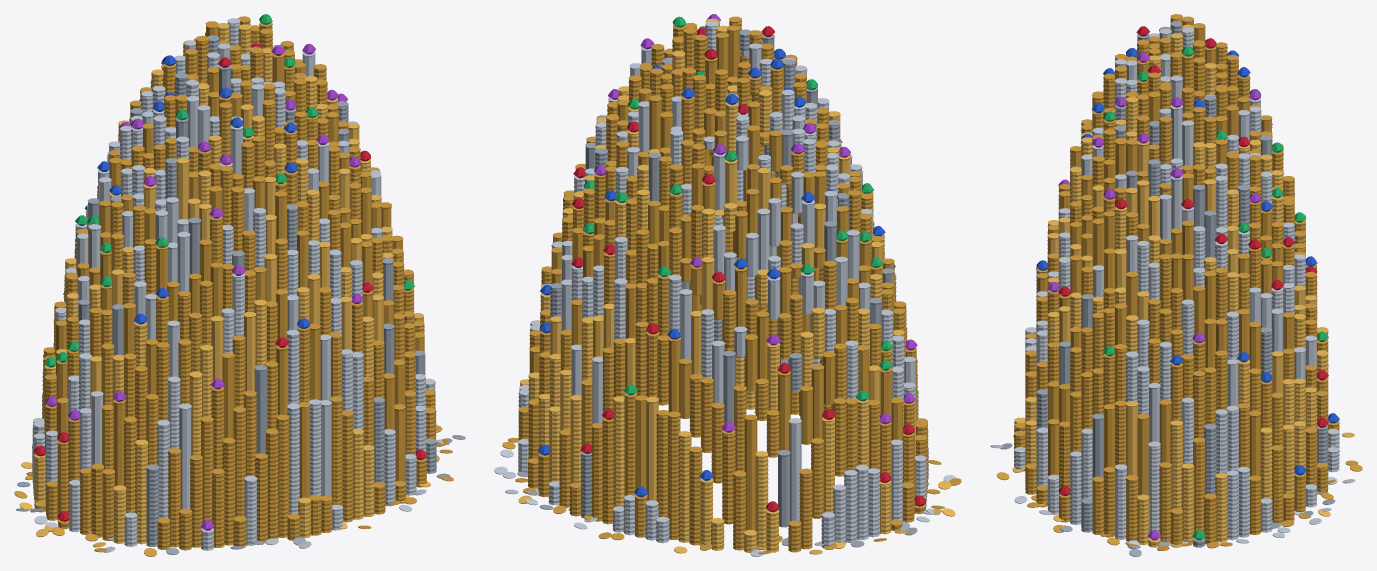
The model's file is PileTall_Large.fbx.
The picture shows the model from 3 angles, left to right: view 1: azimuth 30°, elevation 25°; view 2: azimuth 150°, elevation 25°; view 3: azimuth 270°, elevation 25°; orthographic projection. The views are drawn at different scales.
Visible parts, largest first — view 1: PileTall_Large; view 2: PileTall_Large; view 3: PileTall_Large.
Part boxes in pixels (left/top/right/bottom): PileTall_Large: left=14, top=14, right=465, bottom=556; PileTall_Large: left=494, top=14, right=961, bottom=556; PileTall_Large: left=990, top=14, right=1362, bottom=556.
Size of the model in its own units: 253 by 257 by 200.
